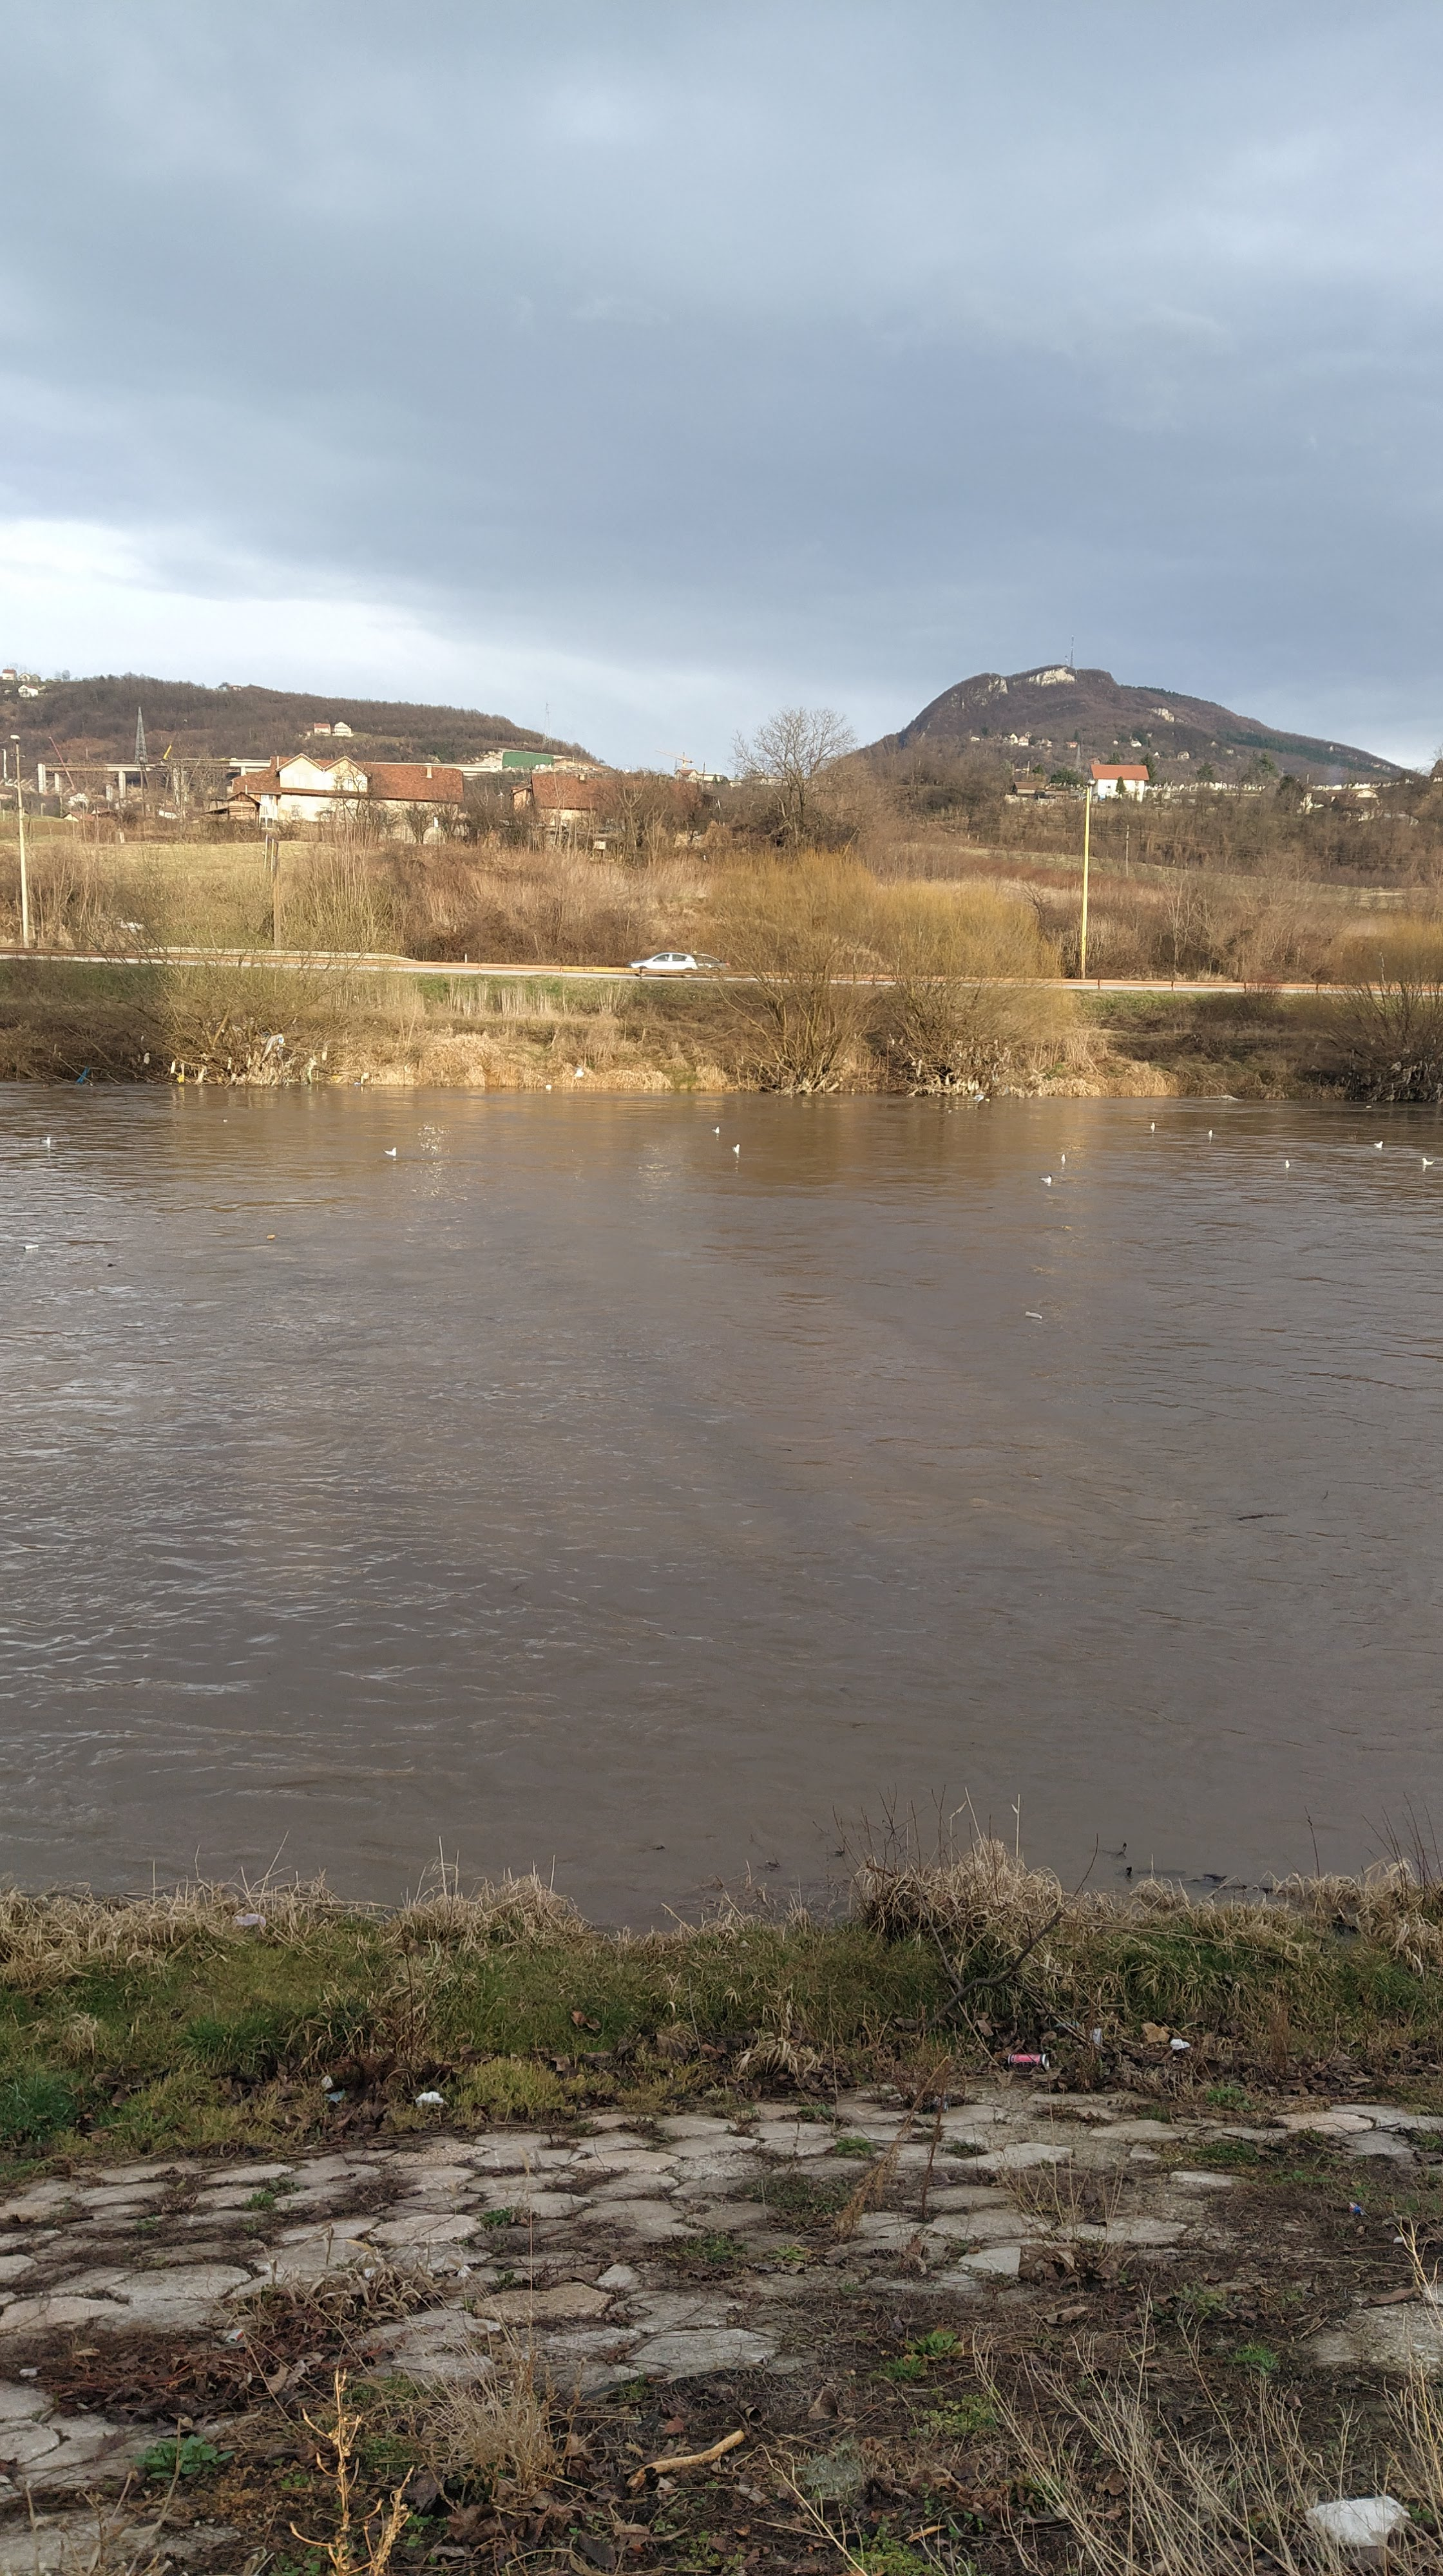Plastic Bottle: (1025, 1311, 1041, 1318), (23, 1244, 41, 1249), (267, 1233, 274, 1238)
